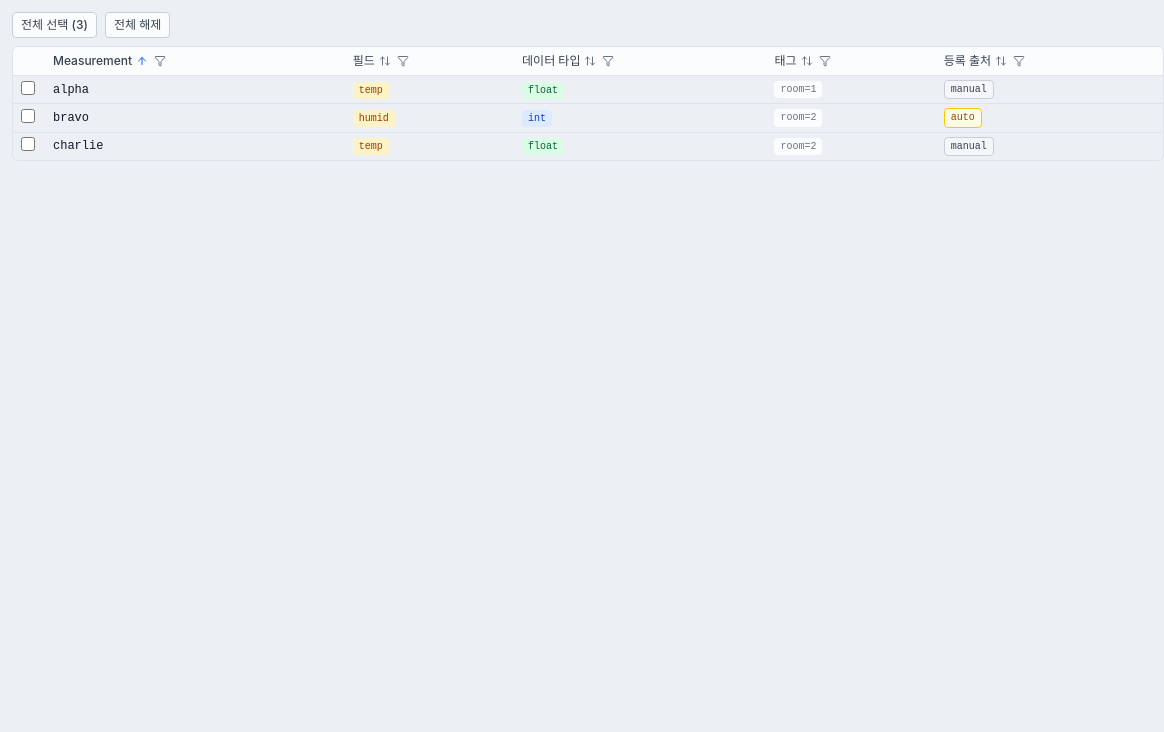
it: 필터 팝오버 배치 (회귀) › 바깥을 누르면 닫힌다
Click the button with test id "series-filter-field". click: (403, 61)
box: [395,53,411,69]
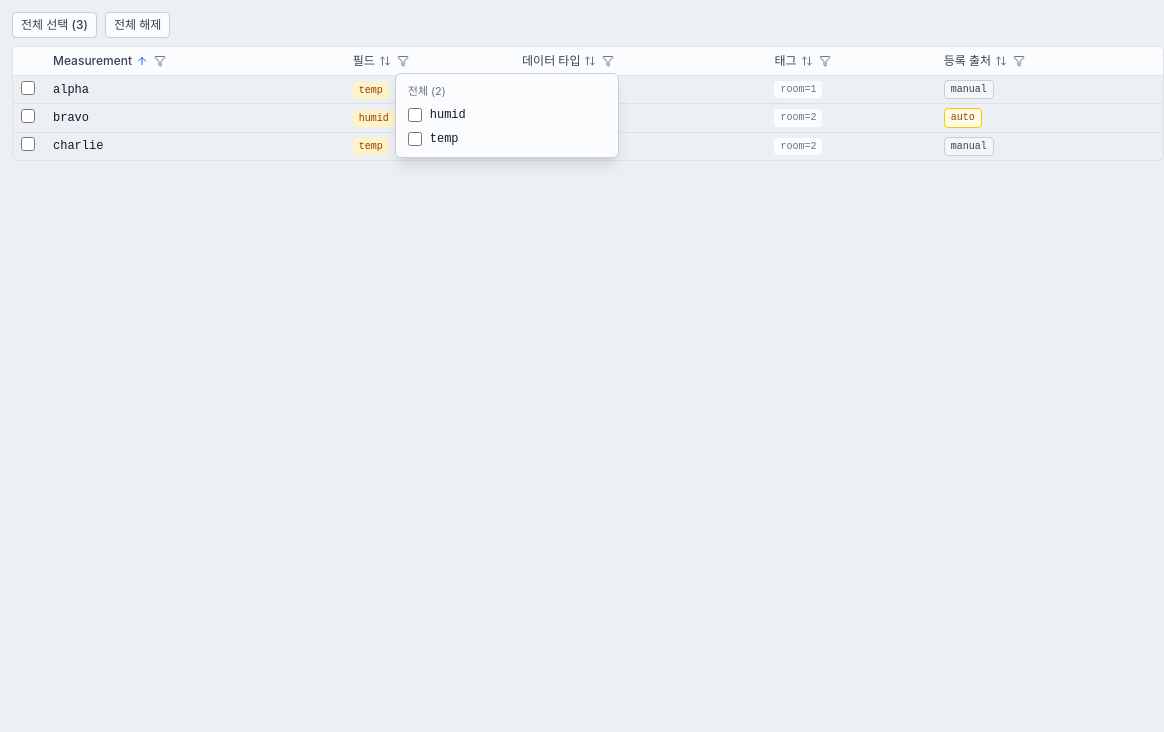
Expected: the element with test id "series-filter-popover-field" is shown, [395,73,619,158]
Press the mouse on the element that starts with "전체 선택 (3)" at (588, 372), box [12,12,1163,731]
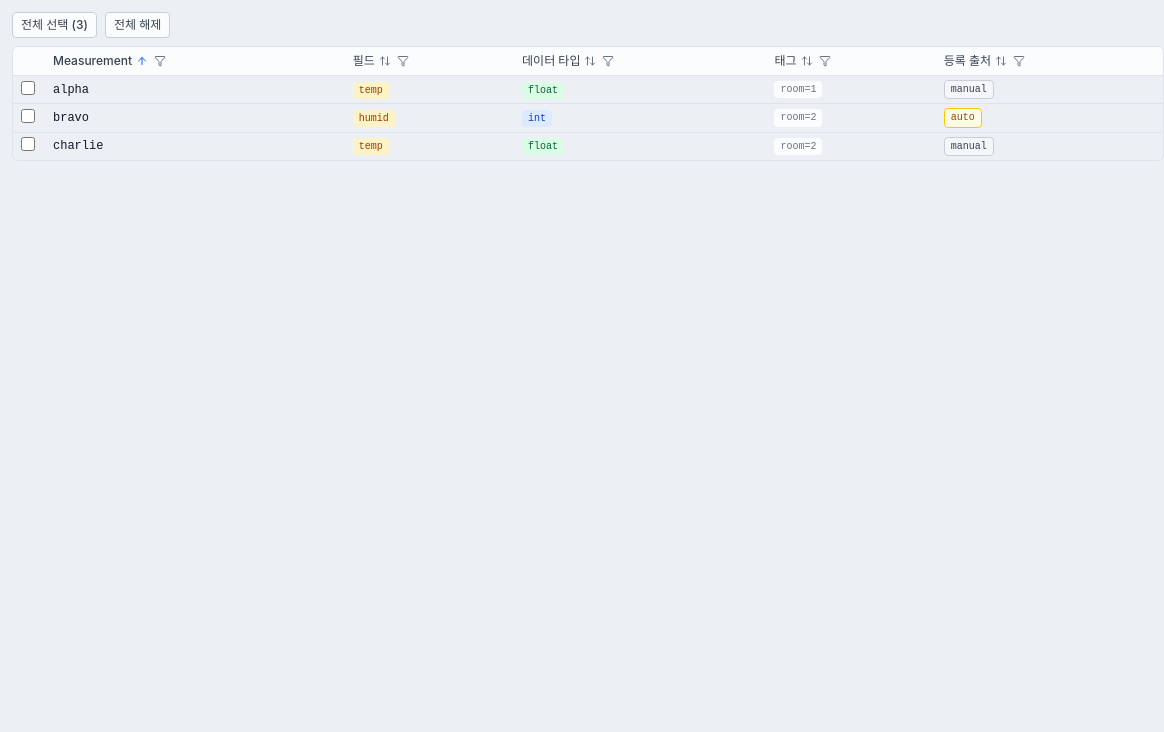
Expected: the element with test id "series-filter-popover-field" is gone
